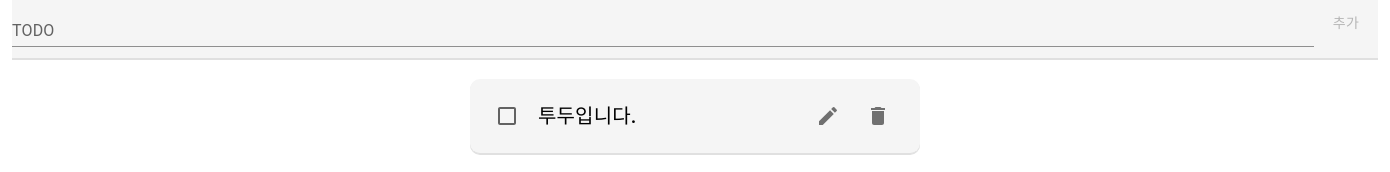
Scenario: <Todo/> › 취소 버튼 클릭했을시 수정 컴포넌트 사라지고 투두 출력
Step 1. Click the button with test id "modify-button" → point(828, 116), box [808,96,848,136]
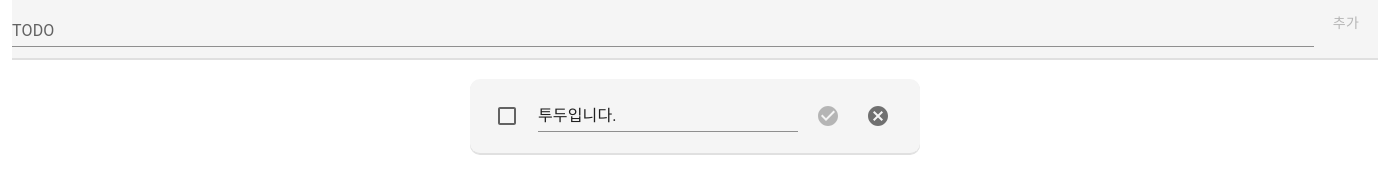
Check: the button with test id "cancel-button" is shown
Step 2. Click the button with test id "cancel-button" → point(878, 116), box [858,96,898,136]
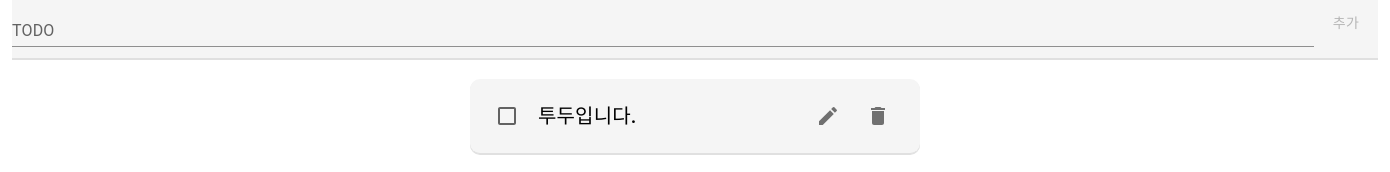
Check: the heading "투두입니다." is shown, box [538,100,636,132]
